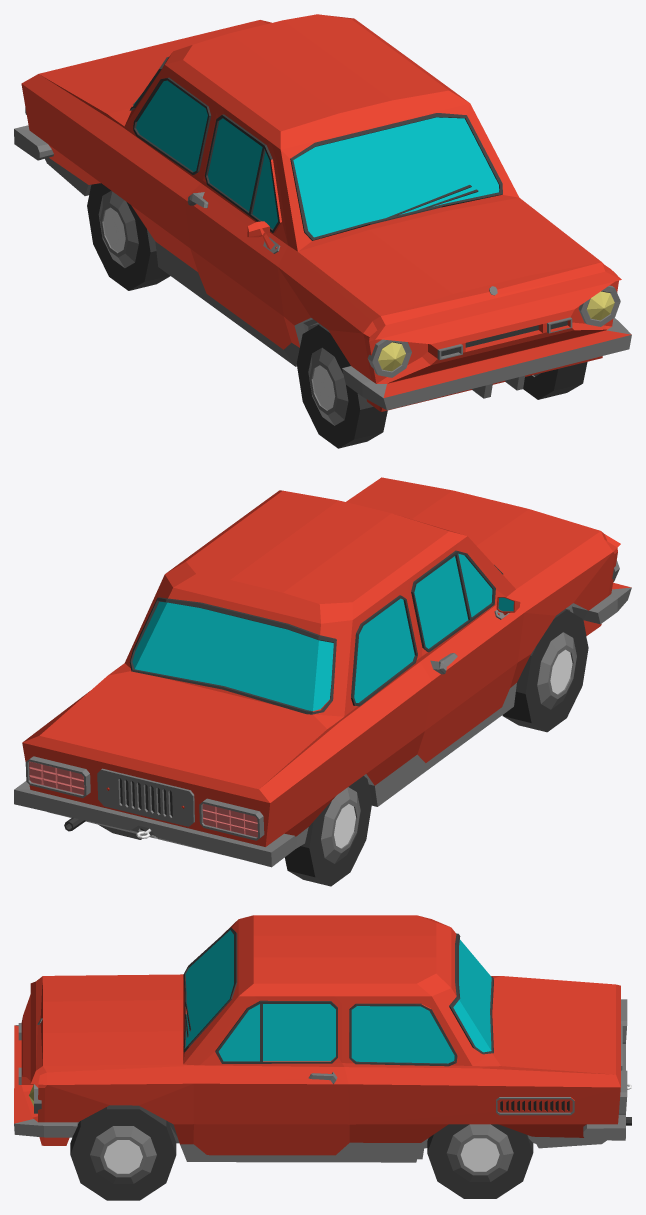
File: car.glb
The picture shows the model from 3 angles, top to bottom: view 1: azimuth 30°, elevation 25°; view 2: azimuth 150°, elevation 25°; view 3: azimuth 270°, elevation 25°; orthographic projection. The views are drawn at different scales.
Parts seen in each view (by area): view 1: Cube, Cylinder.002, Cylinder.003, Cylinder.001, Cylinder; view 2: Cube, Cylinder.002, Cylinder.003; view 3: Cube, Cylinder.002, Cylinder.003.
Boxes of the visible parts, x1,y1,x2,y2 form: Cube: (14,14,631,411); Cylinder.002: (296,324,587,448); Cylinder.003: (87,183,170,290); Cylinder.001: (367,339,411,377); Cylinder: (578,285,620,326); Cube: (14,477,631,867); Cylinder.002: (502,609,588,732); Cylinder.003: (98,776,372,886); Cube: (14,915,627,1162); Cylinder.002: (70,1105,176,1200); Cylinder.003: (427,1124,533,1198).
Bounding box in the file's own units: 2.83 × 2.51 × 6.77.
